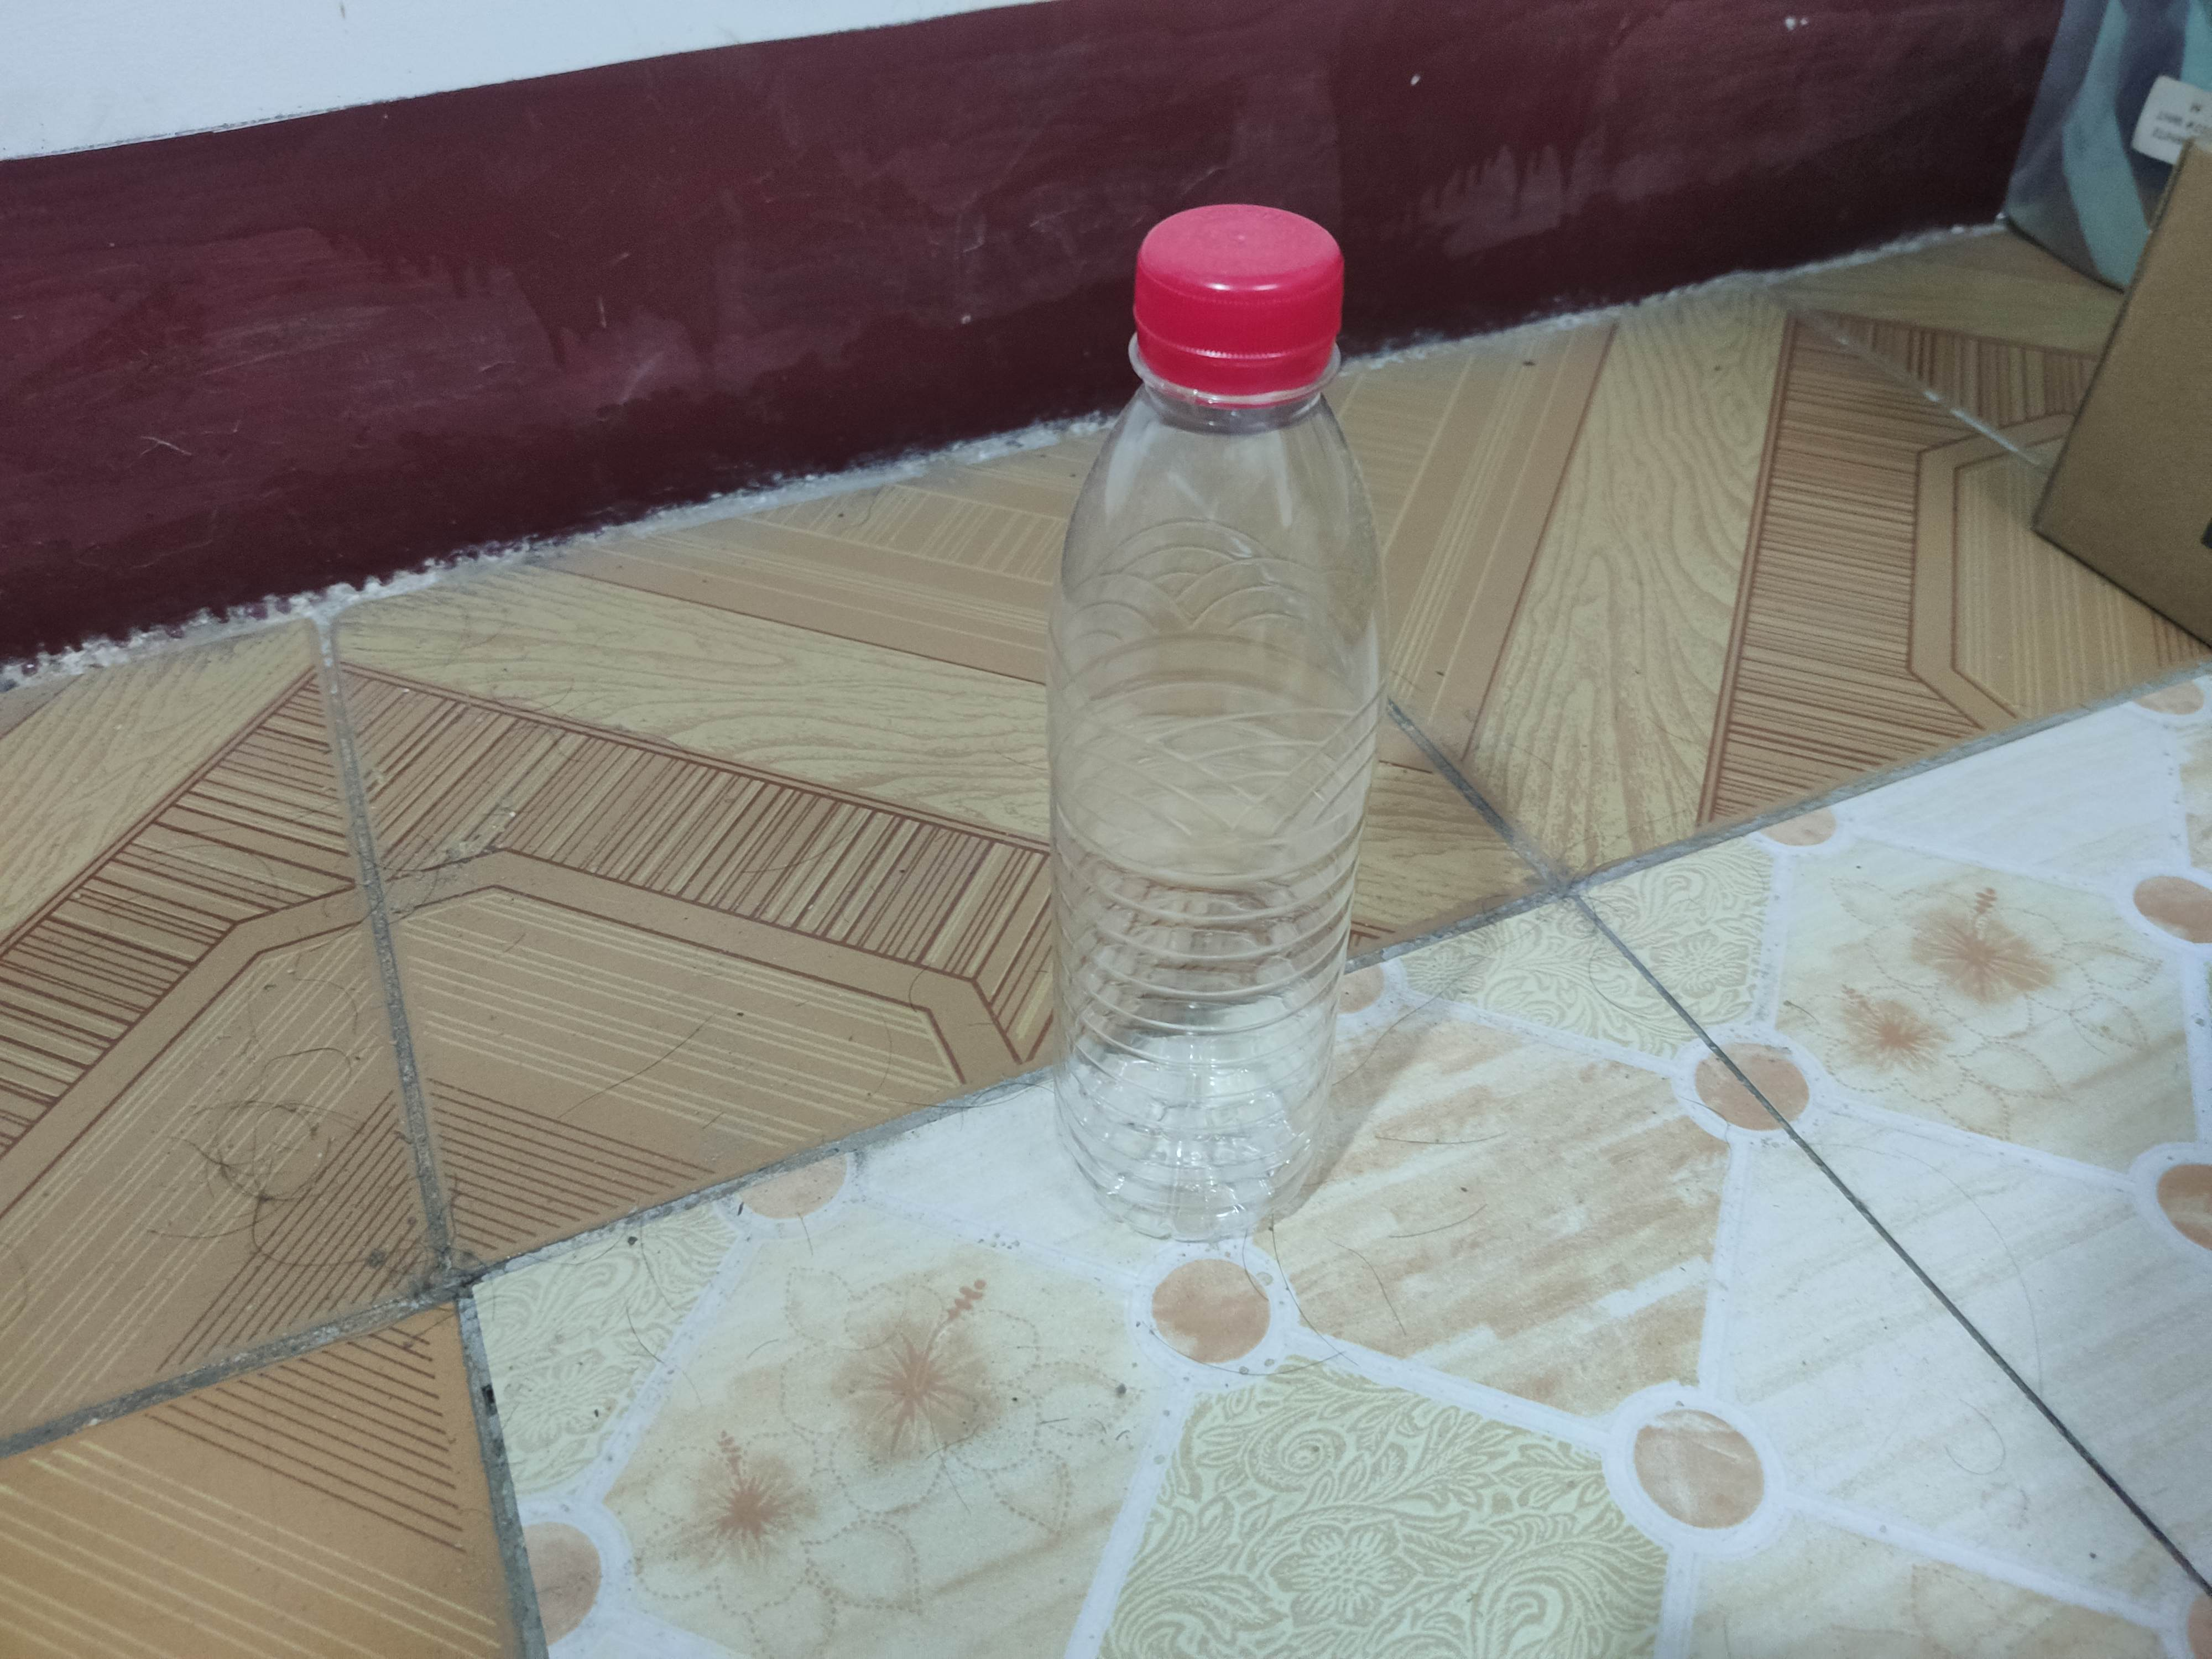Plastic Bottle: (1042, 199, 1392, 1248)
